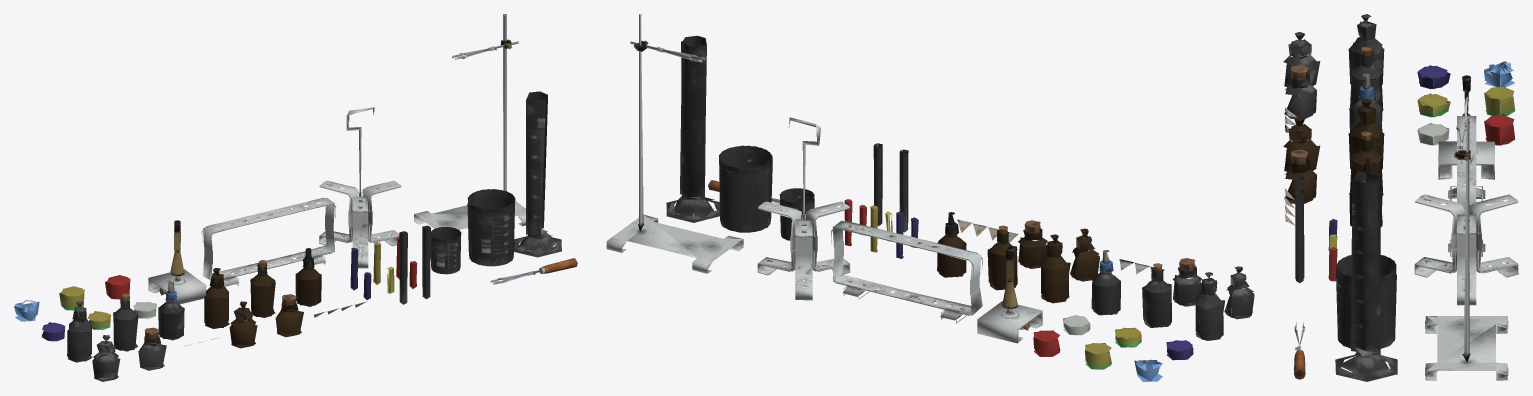
The model's file is chemistry_set.glb.
3 views of the same model, side by side, from view 1: azimuth 30°, elevation 25°; view 2: azimuth 150°, elevation 25°; view 3: azimuth 270°, elevation 25° (orthographic). The views are drawn at different scales.
Visible parts, largest first — view 1: chemistry_set_beaker_large, chemistry_set_beaker_med, chemistry_set_test_tube_stand_a, chemistry_set_test_tube_stand_b, chemistry_set_clamp_stand, chemistry_set_bunsen_burner, chemistry_set_beaker_small, chemistry_set_bottle_clear_c, chemistry_set_bottle_dark_c, chemistry_set_bottle_clear_d, chemistry_set_bottle_dark_d, chemistry_set_bottle_dark_e (+10 smaller); view 2: chemistry_set_beaker_large, chemistry_set_test_tube_stand_a, chemistry_set_beaker_med, chemistry_set_clamp_stand, chemistry_set_test_tube_stand_b, chemistry_set_bunsen_burner, chemistry_set_bottle_clear_c, chemistry_set_bottle_dark_c, chemistry_set_bottle_clear_d, chemistry_set_bottle_clear_e, chemistry_set_bottle_dark_d, chemistry_set_beaker_small (+9 smaller); view 3: chemistry_set_beaker_large, chemistry_set_clamp_stand, chemistry_set_test_tube_stand_b, chemistry_set_beaker_med, chemistry_set_test_tube_stand_a, chemistry_set_bunsen_burner, chemistry_set_bottle_clear_b, chemistry_set_bottle_clear_d, chemistry_set_bottle_clear_c, chemistry_set_bottle_dark_c, chemistry_set_bottle_dark_d, chemistry_set_bottle_dark_b (+17 smaller).
Part boxes in pixels (<box>): chemistry_set_beaker_large: <box>514,91,561,257</box>; chemistry_set_beaker_med: <box>467,189,515,266</box>; chemistry_set_test_tube_stand_a: <box>201,197,336,286</box>; chemistry_set_test_tube_stand_b: <box>319,107,401,268</box>; chemistry_set_clamp_stand: <box>414,14,525,229</box>; chemistry_set_bunsen_burner: <box>148,220,206,304</box>; chemistry_set_beaker_small: <box>430,227,461,274</box>; chemistry_set_bottle_clear_c: <box>67,306,92,362</box>; chemistry_set_bottle_dark_c: <box>204,273,229,328</box>; chemistry_set_bottle_clear_d: <box>113,297,138,351</box>; chemistry_set_bottle_dark_d: <box>250,264,275,317</box>; chemistry_set_bottle_dark_e: <box>295,262,321,306</box>; chemistry_set_beaker_large: <box>666,35,719,222</box>; chemistry_set_test_tube_stand_a: <box>831,220,982,323</box>; chemistry_set_beaker_med: <box>719,145,772,232</box>; chemistry_set_clamp_stand: <box>606,14,743,273</box>; chemistry_set_test_tube_stand_b: <box>757,117,850,300</box>; chemistry_set_bunsen_burner: <box>977,246,1042,343</box>; chemistry_set_bottle_clear_c: <box>1194,278,1225,340</box>; chemistry_set_bottle_dark_c: <box>1039,240,1070,303</box>; chemistry_set_bottle_clear_d: <box>1142,267,1171,327</box>; chemistry_set_bottle_clear_e: <box>1091,266,1120,315</box>; chemistry_set_bottle_dark_d: <box>987,229,1017,290</box>; chemistry_set_beaker_small: <box>779,188,814,240</box>; chemistry_set_beaker_large: <box>1335,171,1397,381</box>; chemistry_set_clamp_stand: <box>1425,117,1508,380</box>; chemistry_set_test_tube_stand_b: <box>1414,97,1518,305</box>; chemistry_set_beaker_med: <box>1336,255,1396,348</box>; chemistry_set_test_tube_stand_a: <box>1448,116,1485,256</box>; chemistry_set_bunsen_burner: <box>1438,75,1494,179</box>; chemistry_set_bottle_clear_b: <box>1284,72,1316,118</box>; chemistry_set_bottle_clear_d: <box>1350,51,1383,111</box>; chemistry_set_bottle_clear_c: <box>1348,20,1384,84</box>; chemistry_set_bottle_dark_c: <box>1348,106,1384,168</box>; chemistry_set_bottle_dark_d: <box>1350,136,1383,195</box>; chemistry_set_bottle_dark_b: <box>1284,156,1316,203</box>.
Bounding box in the file's own units: 1.08 × 0.4279 × 0.353.
Materials: 2 (2 with a texture image).
